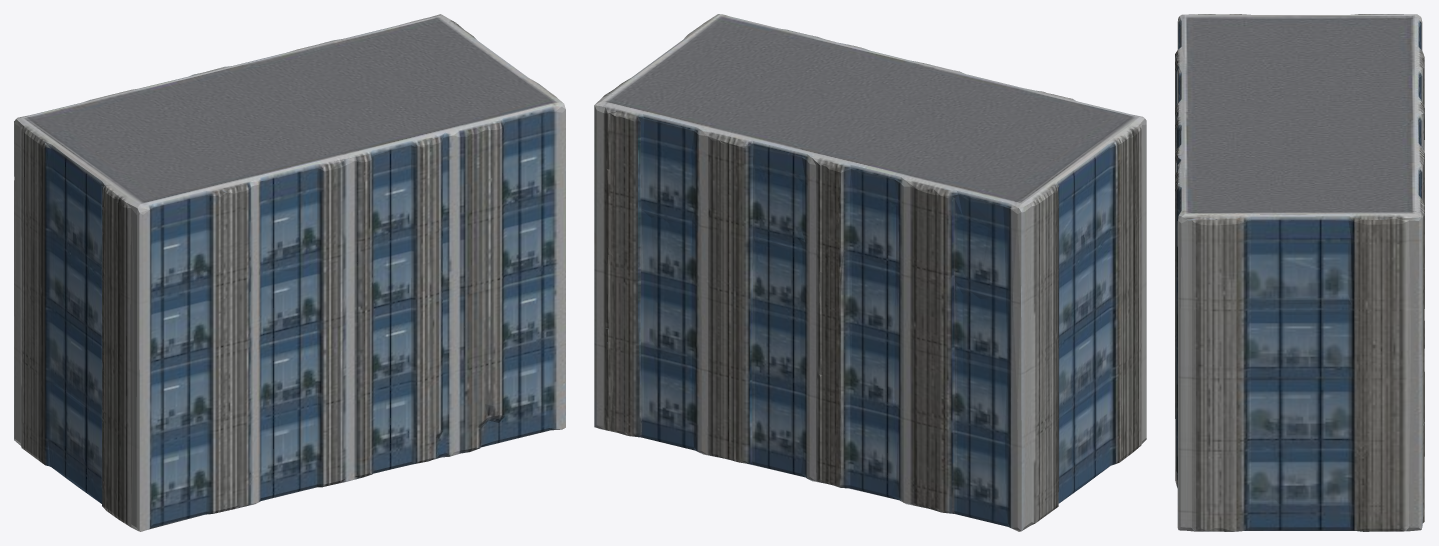
File: kit2-mid.glb
3 renders of one model, left to right at view 1: azimuth 30°, elevation 25°; view 2: azimuth 150°, elevation 25°; view 3: azimuth 270°, elevation 25°, orthographic. The views are drawn at different scales.
Parts seen in each view (by area): view 1: Mesh_0.001; view 2: Mesh_0.001; view 3: Mesh_0.001.
Boxes of the visible parts, left/top/right/bottom form: Mesh_0.001: left=14, top=14, right=565, bottom=531; Mesh_0.001: left=594, top=14, right=1146, bottom=531; Mesh_0.001: left=1175, top=14, right=1424, bottom=531.
Size of the model in its own units: 0.9987 by 0.7161 by 0.512.
Materials: 1 (1 with a texture image).
